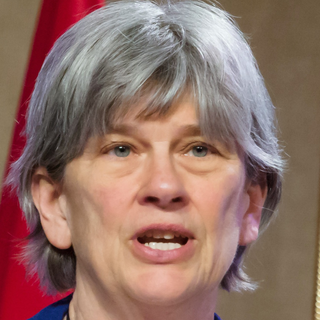eye: (98, 138, 145, 163), (176, 139, 223, 163)
